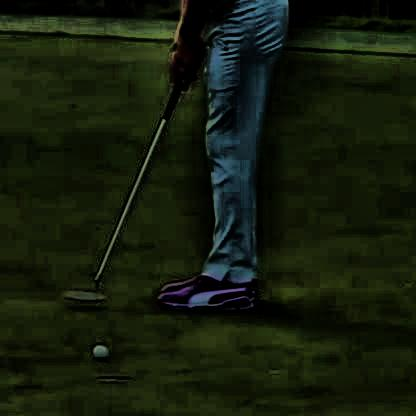golfball: (90, 344, 108, 360)
